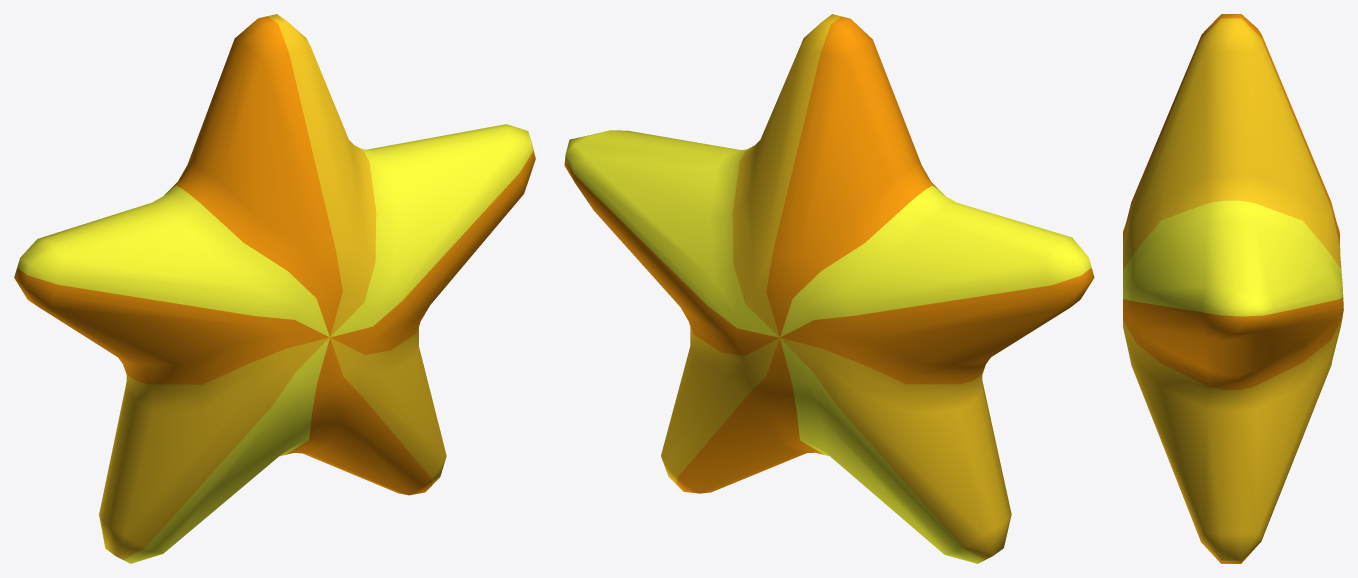
File: SM_Star_01a.fbx
3 views of the same model, side by side, from view 1: azimuth 30°, elevation 25°; view 2: azimuth 150°, elevation 25°; view 3: azimuth 270°, elevation 25° (orthographic). The views are drawn at different scales.
Parts seen in each view (by area): view 1: Star_02, Star_01; view 2: Star_02, Star_01; view 3: Star_01, Star_02.
Part boxes in pixels (x1=…): Star_02: x1=14, y1=16, x2=342, y2=563; Star_01: x1=268, y1=14, x2=535, y2=495; Star_02: x1=766, y1=16, x2=1094, y2=563; Star_01: x1=564, y1=14, x2=840, y2=493; Star_01: x1=1123, y1=18, x2=1343, y2=563; Star_02: x1=1123, y1=14, x2=1339, y2=244.
Bounding box in the file's own units: 34.36 × 31.95 × 13.38.
